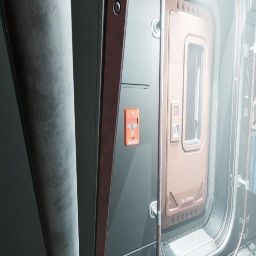EmergencyPhone ,: (249, 92, 256, 129)
FireAlarm ,: (125, 109, 139, 146)
